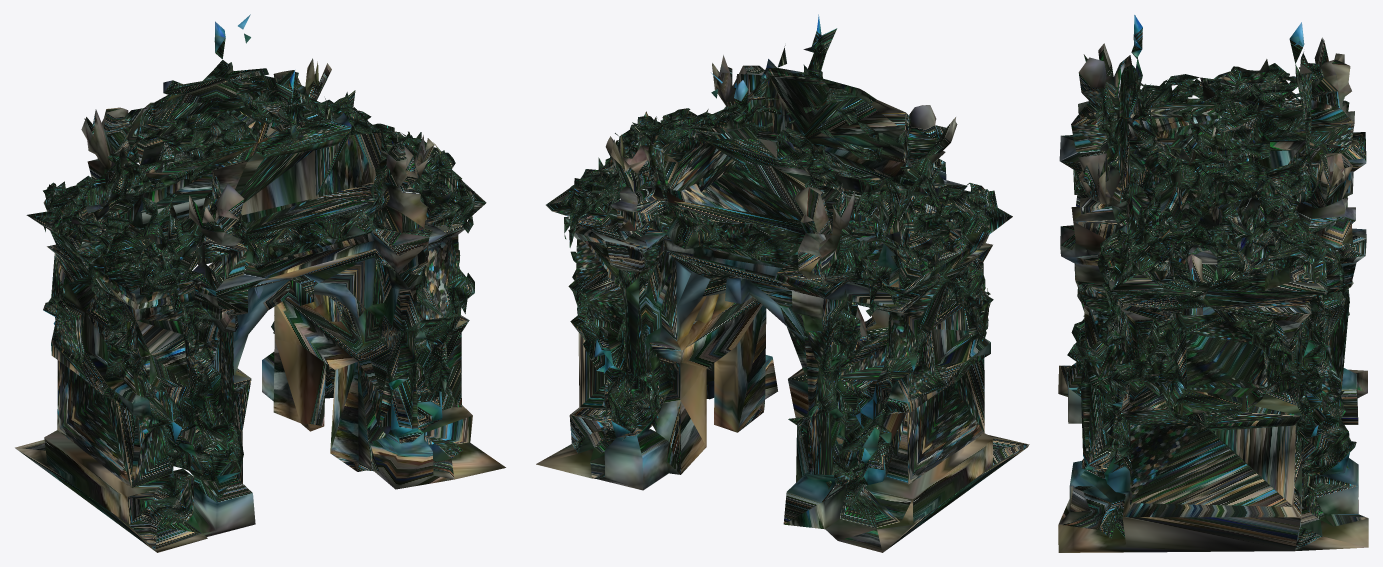
File: _Romania_A_semi_real.glb
The picture shows the model from 3 angles, left to right: view 1: azimuth 30°, elevation 25°; view 2: azimuth 150°, elevation 25°; view 3: azimuth 270°, elevation 25°; orthographic projection. The views are drawn at different scales.
Parts seen in each view (by area): view 1: _Romania_A_semi_real; view 2: _Romania_A_semi_real; view 3: _Romania_A_semi_real.
Part boxes in pixels (bbox=[...]): _Romania_A_semi_real: bbox=[15, 14, 505, 552]; _Romania_A_semi_real: bbox=[536, 14, 1029, 552]; _Romania_A_semi_real: bbox=[1058, 15, 1368, 552].
Bounding box in the file's own units: 1.82 × 1.98 × 1.25.
Materials: 1 (1 with a texture image).
